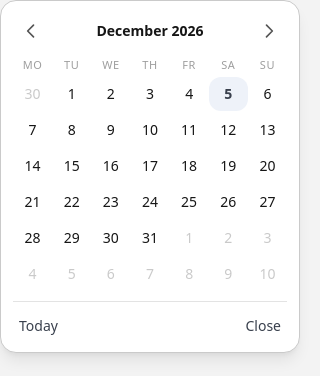
Test: AppDatePanel › navigates months with the header arrows
Click the button named "Next month": (269, 31) [251, 13, 287, 49]
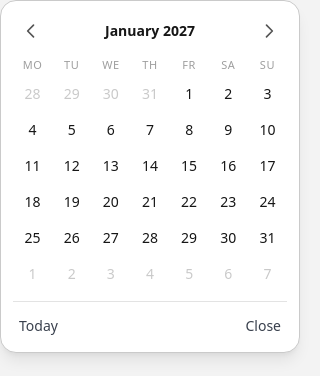
Expected: the button named "Choose year" reads "January 2027", [53, 13, 247, 49]
Click the button named "Previous month": (31, 31) [13, 13, 49, 49]
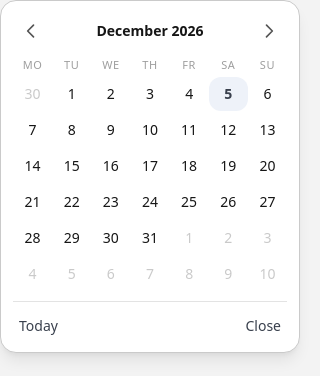
Expected: the button named "Choose year" reads "December 2026", [53, 13, 247, 49]
